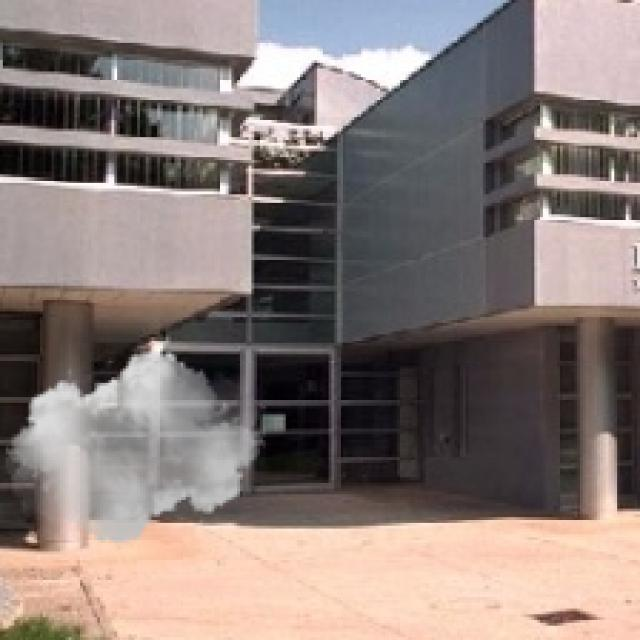smoke: (6, 343, 266, 551)
